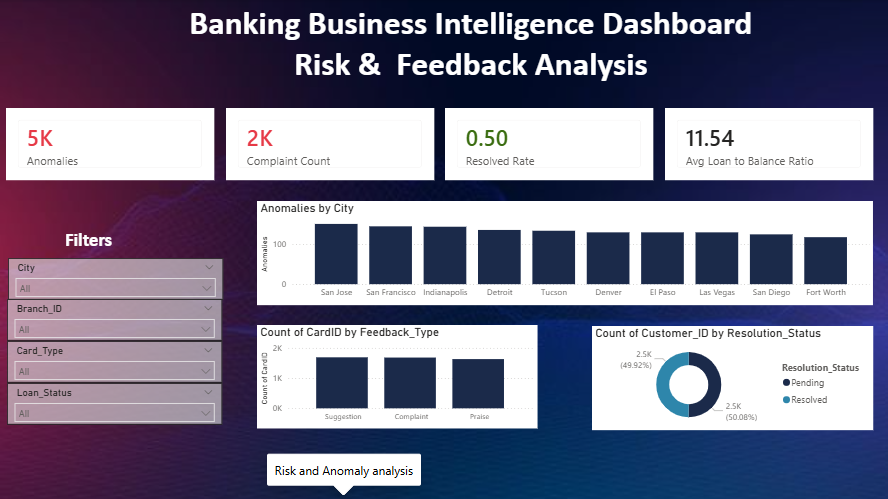

The page's visual inventory and layout, read from the dashboard file:
{"tool":"powerbi","page":{"name":"Risk and Anomaly analysis","canvas":[1280,720],"ordinal":1},"visuals":[{"type":"cardVisual","fields":{"Data":["Banking_Capstone_Cleaned_Dataset.Complaint Count"]},"box":[325,157,299.5,103.7],"z":0},{"type":"slicer","fields":{"Values":["Banking_Capstone_Cleaned_Dataset.City"]},"box":[10.8,372.7,310,60],"z":1000},{"type":"slicer","fields":{"Values":["Banking_Capstone_Cleaned_Dataset.Branch_ID"]},"box":[10.6,432.4,310,60],"z":2000},{"type":"slicer","fields":{"Values":["Banking_Capstone_Cleaned_Dataset.Loan_Status"]},"box":[10.4,552.5,310,60.5],"z":3000},{"type":"textbox","box":[10.1,325.4,234.7,47.5],"z":4000},{"type":"textbox","box":[217.4,0,921.6,144],"z":5000},{"type":"slicer","fields":{"Values":["Banking_Capstone_Cleaned_Dataset.Card_Type"]},"box":[10.1,492.2,310,60.5],"z":6000},{"type":"cardVisual","fields":{"Data":["Banking_Capstone_Cleaned_Dataset.Anomalies"]},"box":[8.6,157,299.5,103.7],"z":7000},{"type":"cardVisual","fields":{"Data":["Banking_Capstone_Cleaned_Dataset.Resolved Rate"]},"box":[641.3,157,299.5,103.7],"z":8000},{"type":"cardVisual","fields":{"Data":["Banking_Capstone_Cleaned_Dataset.Avg Loan to Balance Ratio"]},"box":[957.6,157,299.5,103.7],"z":9000},{"type":"clusteredColumnChart","fields":{"Y":["CountNonNull(Banking_Capstone_Cleaned_Dataset.CardID)"],"Category":["Banking_Capstone_Cleaned_Dataset.Feedback_Type"]},"box":[370.1,469.4,404,149],"z":10000},{"type":"clusteredColumnChart","fields":{"Category":["Banking_Capstone_Cleaned_Dataset.City"],"Y":["Banking_Capstone_Cleaned_Dataset.Anomalies"]},"box":[370.1,290.9,887,149.8],"z":11000},{"type":"donutChart","fields":{"Y":["CountNonNull(Banking_Capstone_Cleaned_Dataset.Customer_ID)"],"Category":["Banking_Capstone_Cleaned_Dataset.Resolution_Status"]},"box":[852.5,470.9,404.6,149.8],"z":12000}]}

Visuals, with their boxes in screenshot pixels (x1, y1, x2, y2), scaled from the page's 1280x720 canvas onto the 888x499 screenshot:
cardVisual - Banking_Capstone_Cleaned_Dataset.Complaint Count: 225:109:433:181
slicer - Banking_Capstone_Cleaned_Dataset.City: 7:258:223:300
slicer - Banking_Capstone_Cleaned_Dataset.Branch_ID: 7:300:222:341
slicer - Banking_Capstone_Cleaned_Dataset.Loan_Status: 7:383:222:425
textbox: 7:226:170:258
textbox: 151:0:790:100
slicer - Banking_Capstone_Cleaned_Dataset.Card_Type: 7:341:222:383
cardVisual - Banking_Capstone_Cleaned_Dataset.Anomalies: 6:109:214:181
cardVisual - Banking_Capstone_Cleaned_Dataset.Resolved Rate: 445:109:653:181
cardVisual - Banking_Capstone_Cleaned_Dataset.Avg Loan to Balance Ratio: 664:109:872:181
clusteredColumnChart - CountNonNull(Banking_Capstone_Cleaned_Dataset.CardID) x Banking_Capstone_Cleaned_Dataset.Feedback_Type: 257:325:537:429
clusteredColumnChart - Banking_Capstone_Cleaned_Dataset.City x Banking_Capstone_Cleaned_Dataset.Anomalies: 257:202:872:305
donutChart - CountNonNull(Banking_Capstone_Cleaned_Dataset.Customer_ID) x Banking_Capstone_Cleaned_Dataset.Resolution_Status: 591:326:872:430
